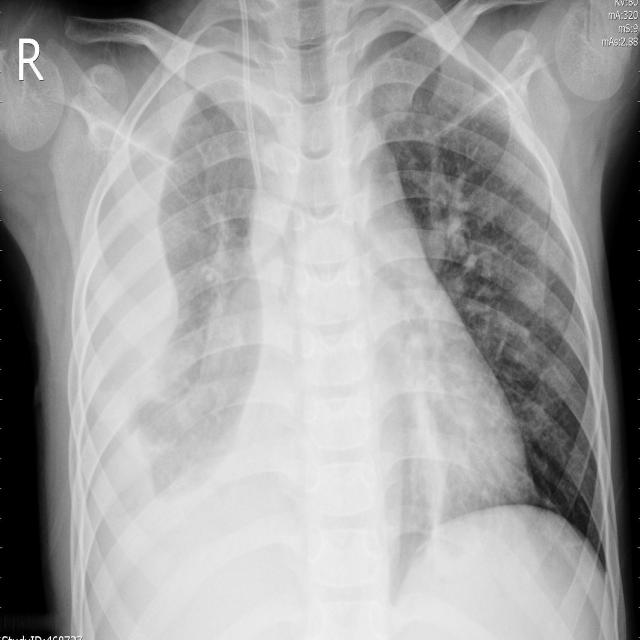high-pneumonia: (129, 263, 263, 498)
low-pneumonia: (416, 147, 518, 331)
